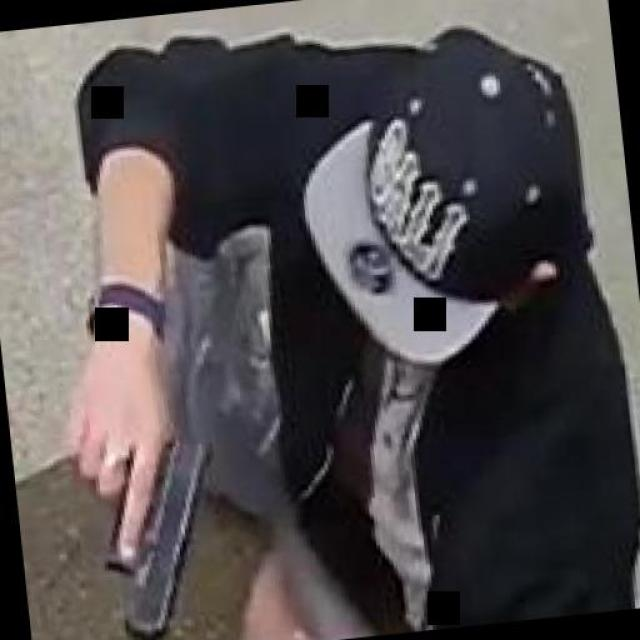gun: (54, 380, 228, 640)
